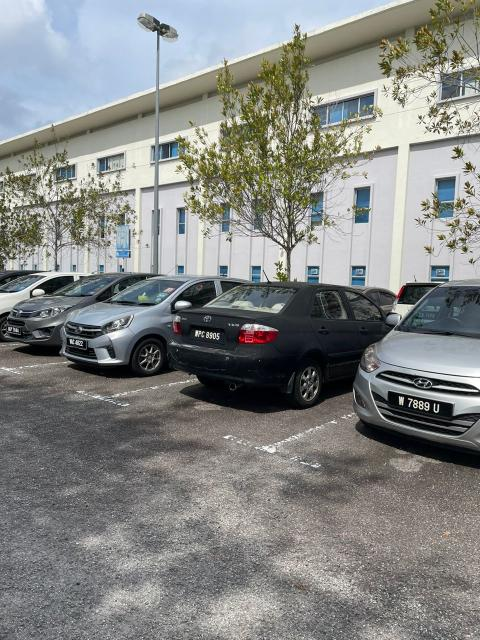License_Plate: (385, 387, 460, 426), (189, 323, 225, 349), (64, 335, 94, 351)
car: (176, 278, 375, 406), (59, 271, 265, 379), (354, 280, 480, 454)
